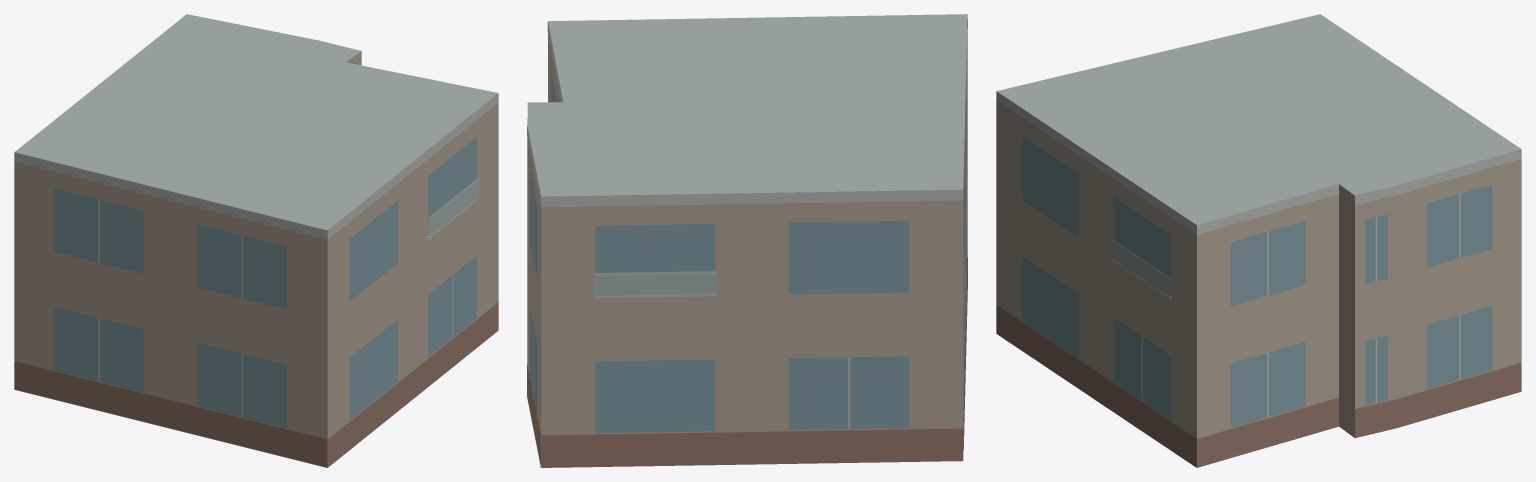
File: survey-upis-32763653.glb
3 renders of one model, left to right at view 1: azimuth 30°, elevation 25°; view 2: azimuth 150°, elevation 25°; view 3: azimuth 270°, elevation 25°, orthographic. The views are drawn at different scales.
Visible parts, largest first — view 1: survey-upis-32763653.tmp; view 2: survey-upis-32763653.tmp; view 3: survey-upis-32763653.tmp.
Part boxes in pixels (x1,y1,x2,y2): survey-upis-32763653.tmp: [14, 14, 498, 467]; survey-upis-32763653.tmp: [527, 14, 967, 467]; survey-upis-32763653.tmp: [996, 14, 1521, 467].
Bounding box in the file's own units: 11.41 × 6.1 × 11.98.
